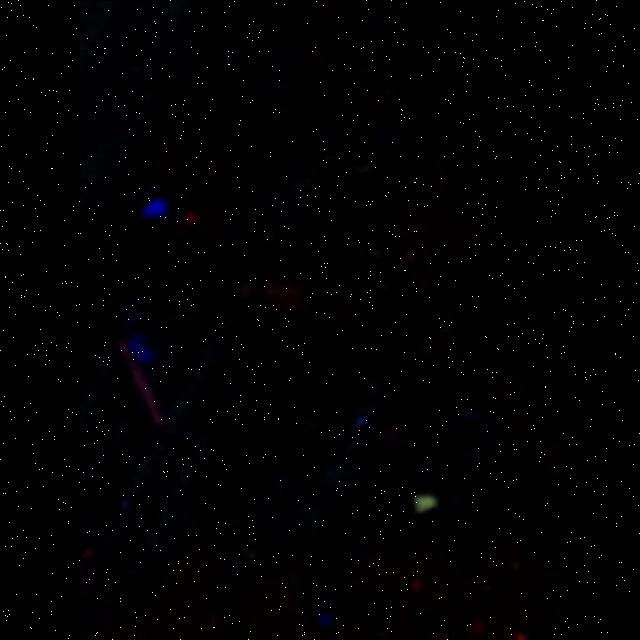microbeads: (413, 492, 439, 512)
